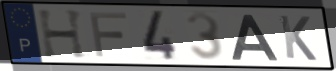3: (186, 10, 224, 63)
4: (140, 8, 179, 63)
A: (230, 13, 281, 62)
F: (87, 10, 129, 59)
H: (35, 8, 90, 60)
K: (277, 14, 320, 63)
